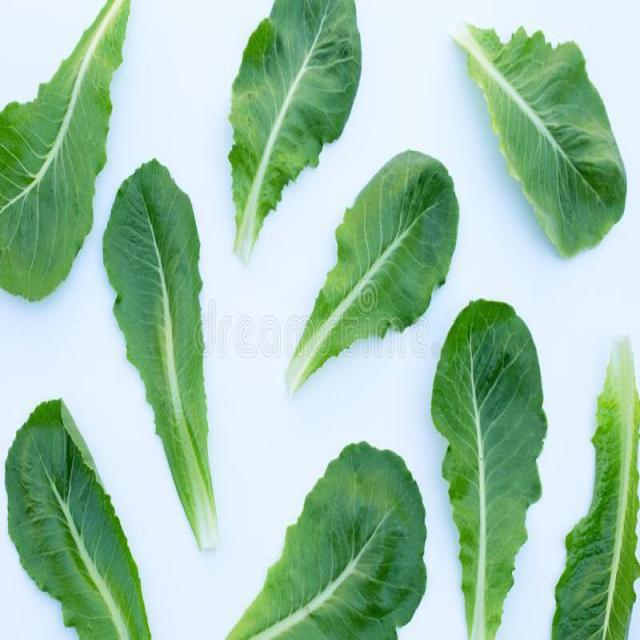Lettuce-Ready-to-Harvest: (102, 153, 224, 550), (447, 16, 629, 257), (284, 150, 460, 399), (433, 295, 548, 640), (227, 441, 426, 640), (4, 387, 156, 640), (0, 0, 129, 298), (230, 0, 366, 265), (554, 327, 640, 640)
